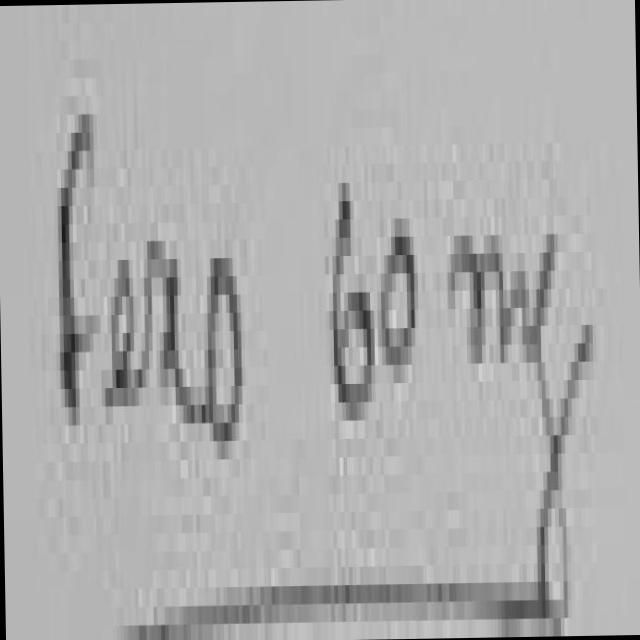0: (384, 236, 418, 364)
6: (336, 182, 375, 420)
F: (58, 114, 93, 425)
e: (108, 259, 152, 415)
g: (534, 223, 569, 626)
m: (451, 235, 529, 363)
o: (208, 258, 242, 441)
x: (154, 241, 196, 428)
